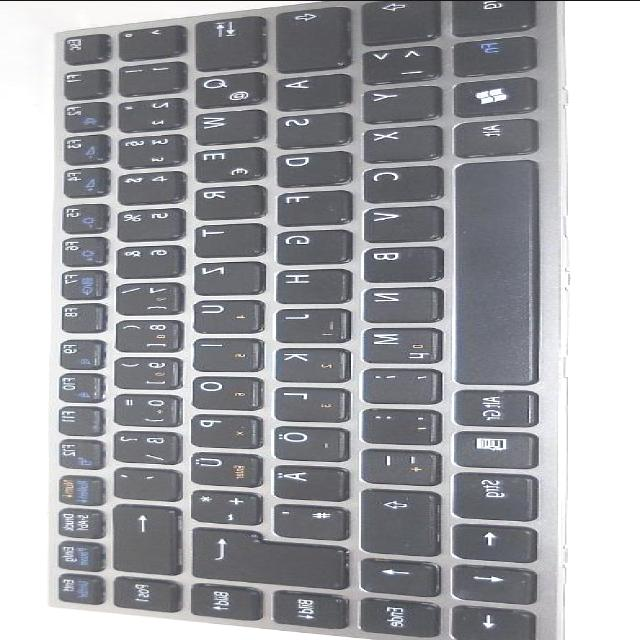0: (105, 390, 173, 424)
1: (110, 59, 180, 93)
2: (110, 95, 180, 129)
3: (110, 131, 180, 165)
4: (111, 169, 178, 201)
5: (110, 206, 178, 238)
6: (110, 243, 178, 275)
7: (108, 280, 176, 314)
8: (108, 316, 178, 350)
9: (107, 353, 175, 387)
a: (268, 71, 346, 107)
accent: (105, 466, 173, 498)
ae: (265, 463, 343, 499)
alt-left: (446, 115, 532, 153)
altgr-right: (445, 386, 531, 424)
b: (353, 243, 438, 280)
c: (354, 163, 439, 200)
caret: (110, 23, 178, 57)
comma: (353, 365, 435, 401)
d: (268, 147, 346, 183)
del: (105, 502, 173, 571)
e: (186, 145, 261, 179)
enter: (185, 525, 341, 586)
f: (268, 188, 346, 222)
g: (268, 227, 344, 261)
h: (268, 266, 344, 300)
hash: (265, 501, 343, 537)
i: (185, 335, 257, 369)
j: (267, 305, 345, 339)
k: (267, 345, 343, 379)
keyboard: (34, 0, 562, 640)
l: (265, 383, 341, 419)
less: (353, 43, 437, 81)
m: (353, 324, 437, 361)
minus: (351, 446, 435, 482)
n: (353, 283, 435, 319)
o: (183, 373, 255, 407)
oe: (265, 424, 343, 458)
p: (181, 411, 253, 445)
plus: (181, 488, 255, 522)
point: (353, 405, 433, 442)
q: (186, 69, 261, 105)
r: (190, 183, 262, 217)
s: (268, 110, 346, 144)
shift-left: (351, 0, 436, 40)
shift-lock: (265, 3, 345, 68)
shift-right: (348, 485, 433, 551)
space: (446, 156, 532, 382)
ss: (106, 428, 173, 460)
strg-left: (441, 0, 533, 32)
strg-right: (443, 468, 531, 518)
t: (188, 221, 260, 255)
tab: (185, 13, 260, 66)
u: (186, 297, 258, 331)
ue: (183, 449, 258, 485)
v: (354, 203, 438, 239)
w: (186, 107, 260, 141)
x: (354, 122, 438, 159)
y: (354, 83, 438, 120)
z: (186, 260, 260, 292)
